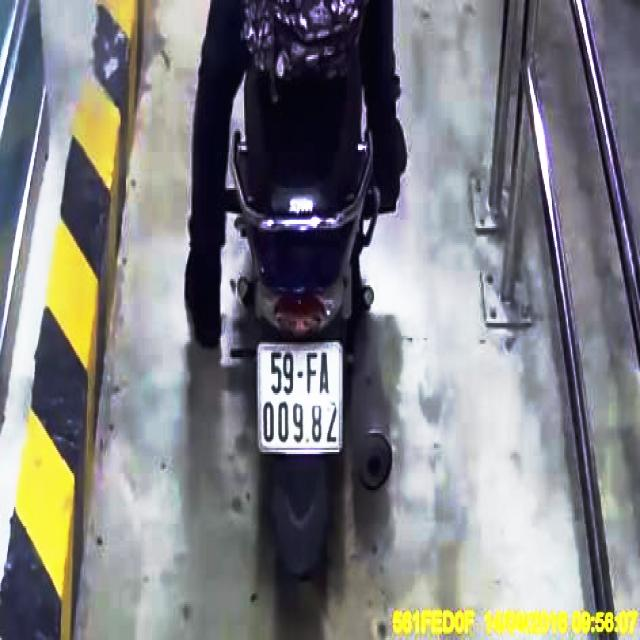license_plate: (256, 343, 343, 454)
